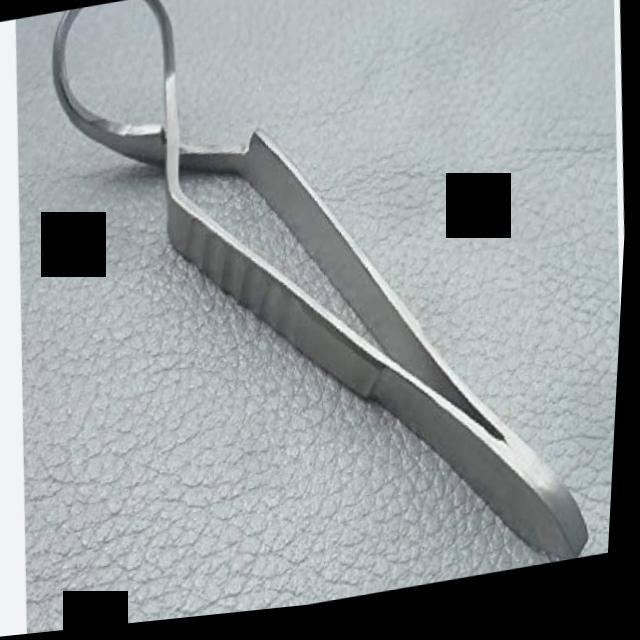Jones Towel Clamp: (24, 0, 631, 636)
